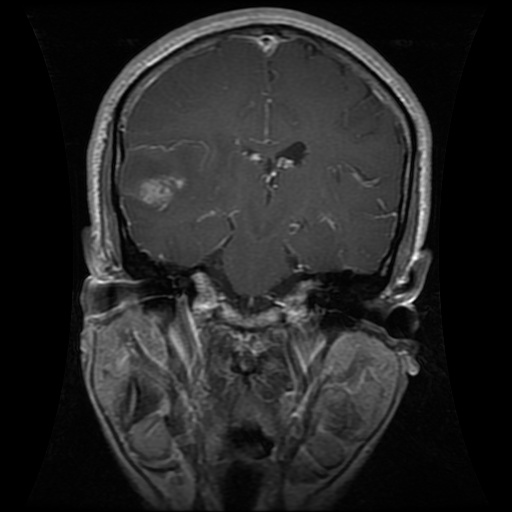glioma: (131, 165, 191, 213)
